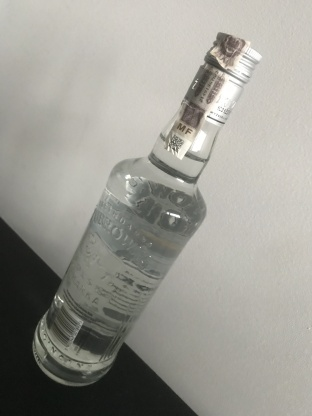nakretka: (179, 29, 263, 129)
